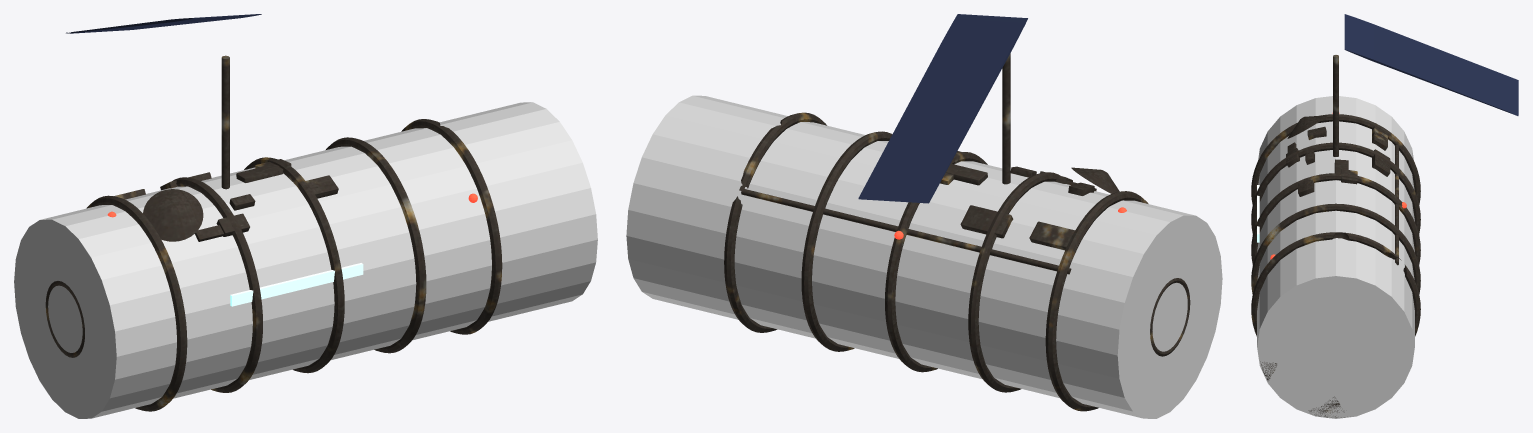
File: wreck.glb
3 views of the same model, side by side, from view 1: azimuth 30°, elevation 25°; view 2: azimuth 150°, elevation 25°; view 3: azimuth 270°, elevation 25° (orthographic). The views are drawn at different scales.
Visible parts, largest first — view 1: COL_Wreck, Wreck_Hull, Wreck_Lights, Wreck_Solar; view 2: COL_Wreck, Wreck_Hull, Wreck_Solar; view 3: COL_Wreck, Wreck_Hull, Wreck_Solar.
Boxes of the visible parts, <box> form: COL_Wreck: <box>14,102,597,418</box>; Wreck_Hull: <box>45,55,502,411</box>; Wreck_Lights: <box>107,193,477,306</box>; Wreck_Solar: <box>66,14,261,33</box>; COL_Wreck: <box>626,95,1222,418</box>; Wreck_Hull: <box>724,53,1190,411</box>; Wreck_Solar: <box>858,14,1027,203</box>; COL_Wreck: <box>1257,96,1414,418</box>; Wreck_Hull: <box>1251,55,1420,417</box>; Wreck_Solar: <box>1344,14,1518,115</box>.
Size of the model in its own units: 16.53 by 11.95 by 10.35.
Materials: 6 (1 with a texture image).
